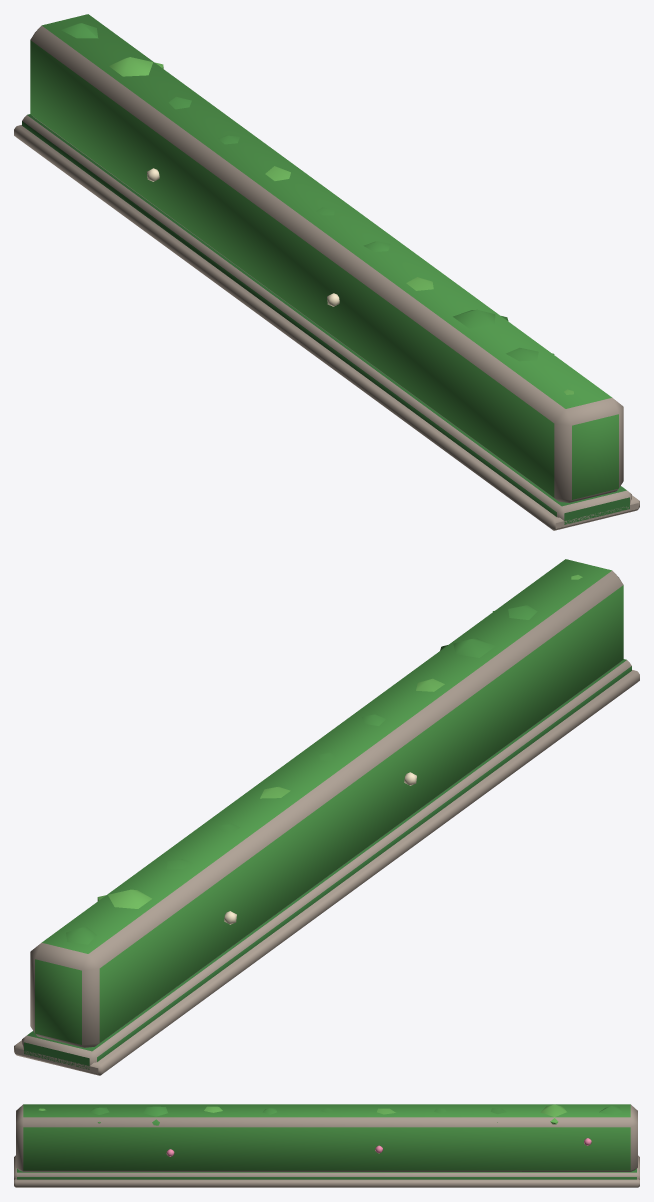
File: dash_border.glb
3 views of the same model, one above another, from view 1: azimuth 30°, elevation 25°; view 2: azimuth 150°, elevation 25°; view 3: azimuth 270°, elevation 25° (orthographic). The views are drawn at different scales.
Parts seen in each view (by area): view 1: dash_border; view 2: dash_border; view 3: dash_border.
Boxes of the visible parts, x1,y1,x2,y2 form: dash_border: [14, 14, 639, 530]; dash_border: [14, 559, 639, 1075]; dash_border: [14, 1104, 639, 1187].
Size of the model in its own units: 0.95 by 1.26 by 10.
